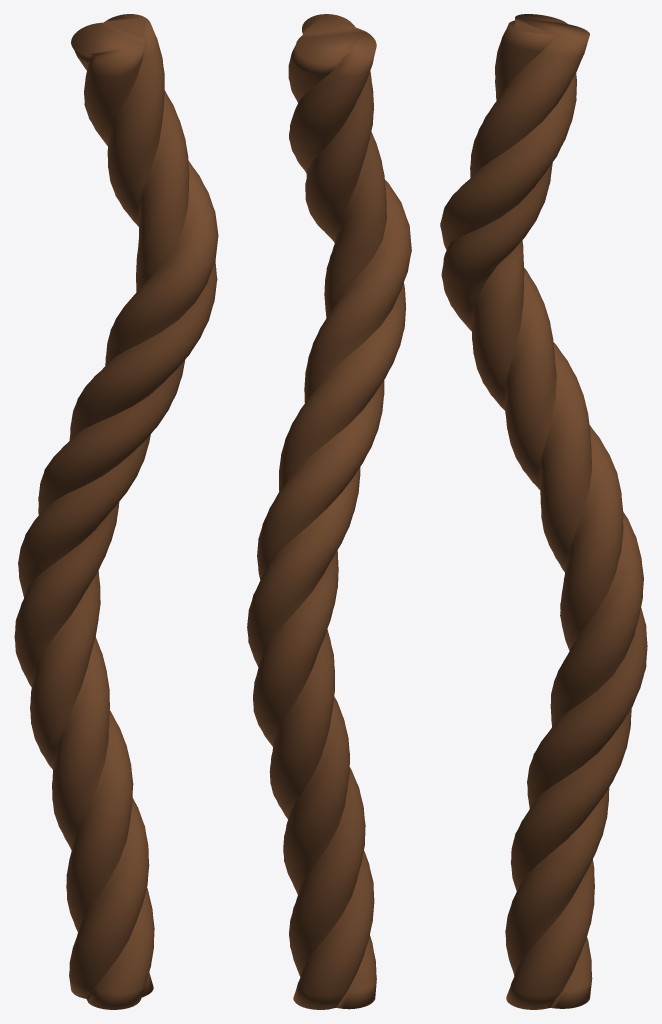
The model's file is rope.fbx.
3 views of the same model, side by side, from view 1: azimuth 90°, elevation 25°; view 2: azimuth 150°, elevation 25°; view 3: azimuth 270°, elevation 25° (orthographic).
Visible parts, largest first — view 1: Circle; view 2: Circle; view 3: Circle.
Boxes of the visible parts, x1,y1,x2,y2 form: Circle: (14,14,218,1009); Circle: (247,14,411,1009); Circle: (440,14,647,1009).
Bounding box in the file's own units: 423 × 4012 × 771.
